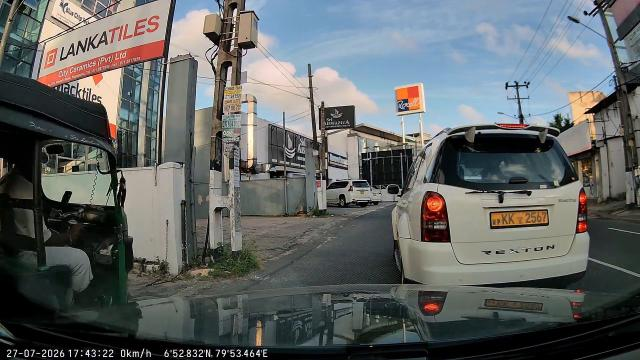number plate: (482, 207, 562, 233)
